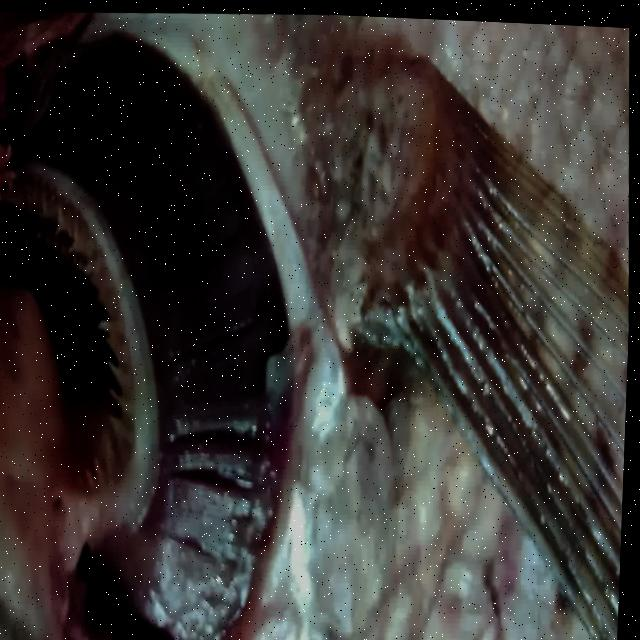Non-Fresh: (0, 21, 331, 640)
